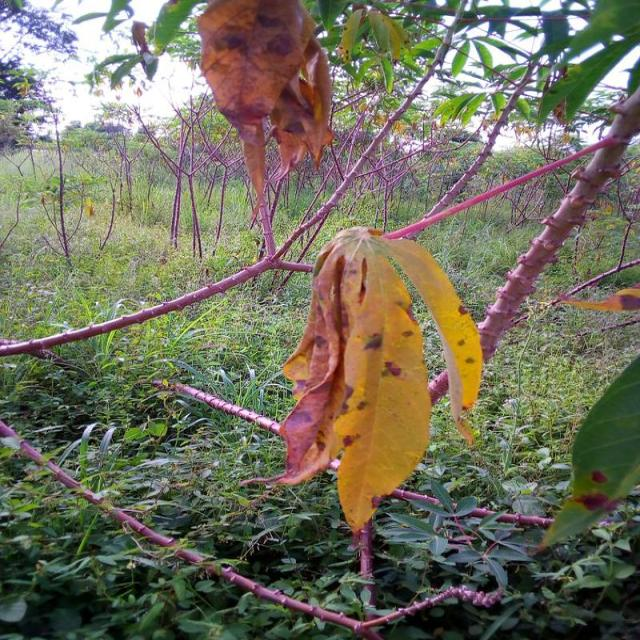cassava leaf: (248, 223, 482, 533), (195, 0, 334, 226), (535, 353, 639, 553)
